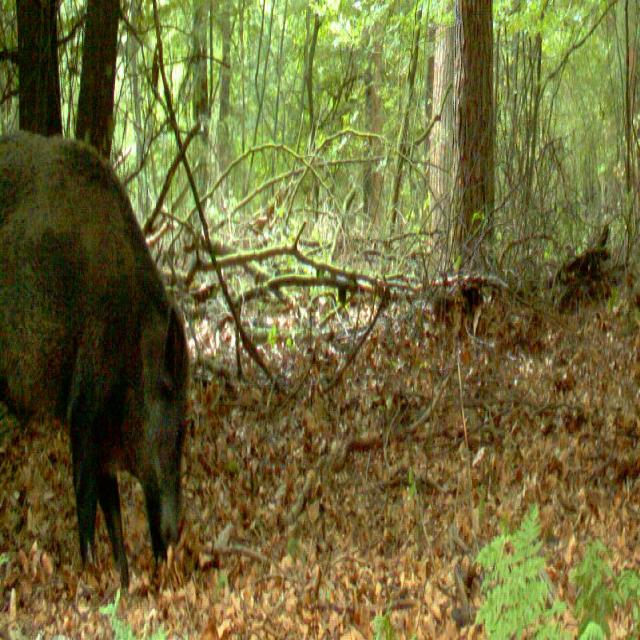pig: (0, 39, 232, 640)
